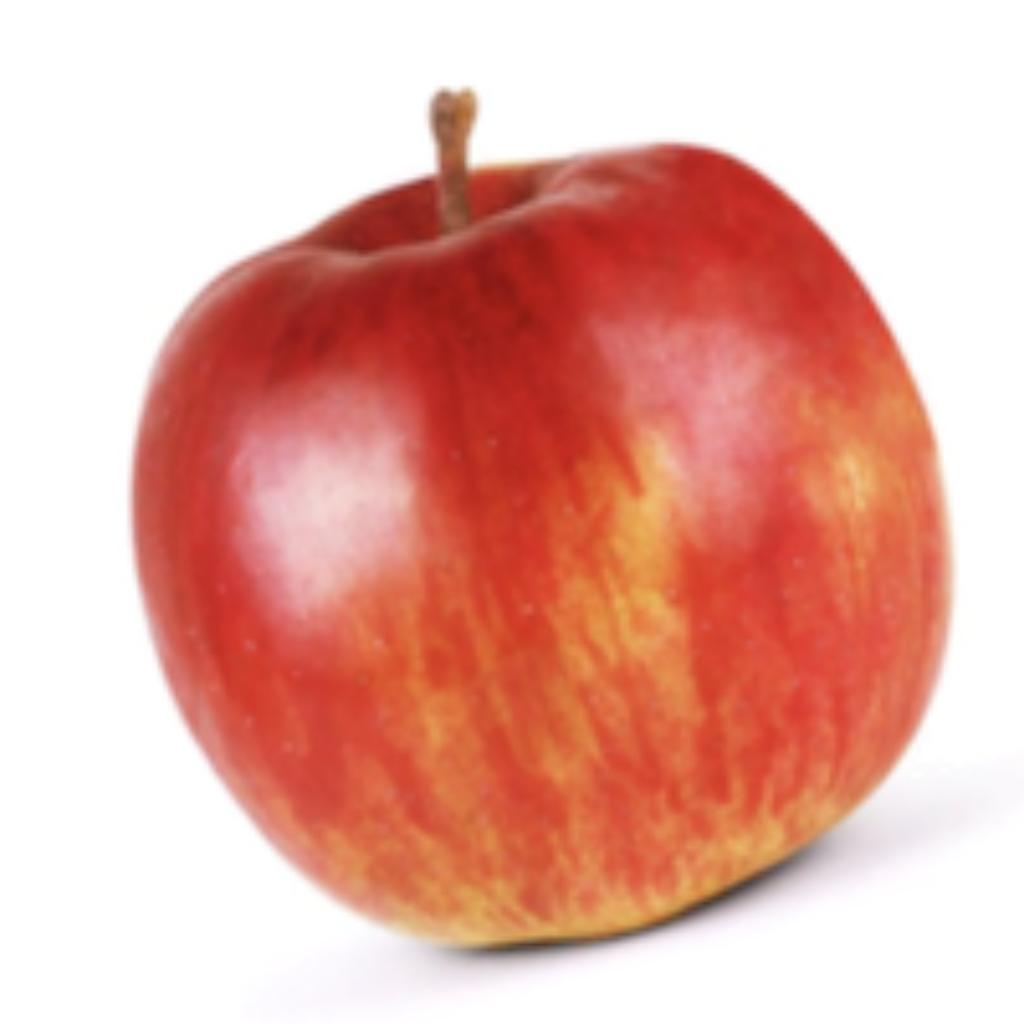apple: (118, 82, 1004, 1004)
